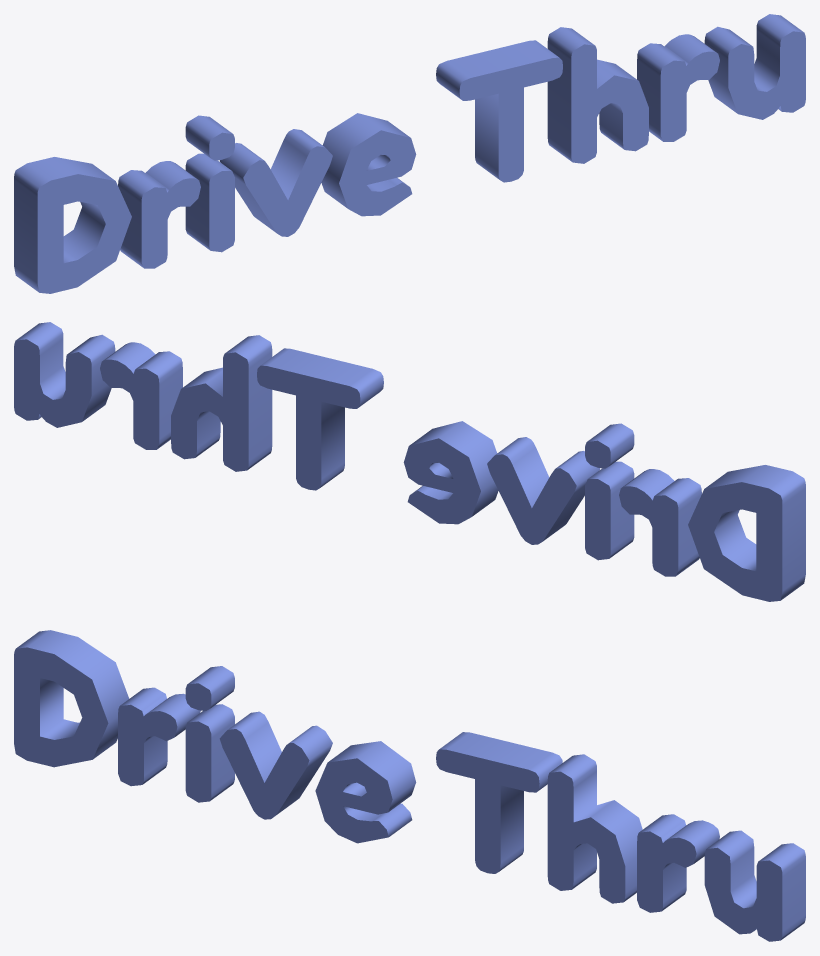
The model's file is drivethru_text.fbx.
3 renders of one model, top to bottom at view 1: azimuth 30°, elevation 25°; view 2: azimuth 150°, elevation 25°; view 3: azimuth 330°, elevation 25°, orthographic.
Parts seen in each view (by area): view 1: Text; view 2: Text; view 3: Text.
Boxes of the visible parts, left/top/right/bottom form: Text: left=14, top=14, right=805, bottom=293; Text: left=14, top=322, right=805, bottom=601; Text: left=14, top=630, right=805, bottom=941.
Bounding box in the file's own units: 1091 × 165 × 58.
